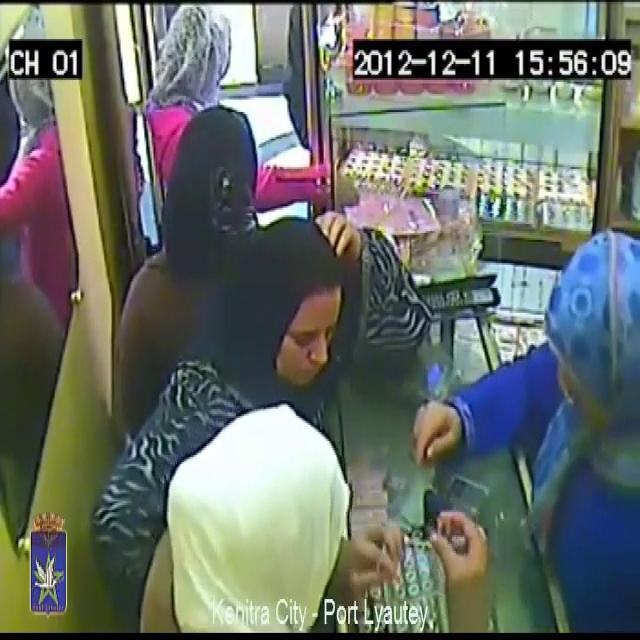Product: (424, 508, 448, 552)
normal: (464, 151, 640, 640), (137, 0, 409, 208), (244, 196, 368, 404), (172, 92, 267, 283)
shoplifting: (142, 410, 471, 640)
